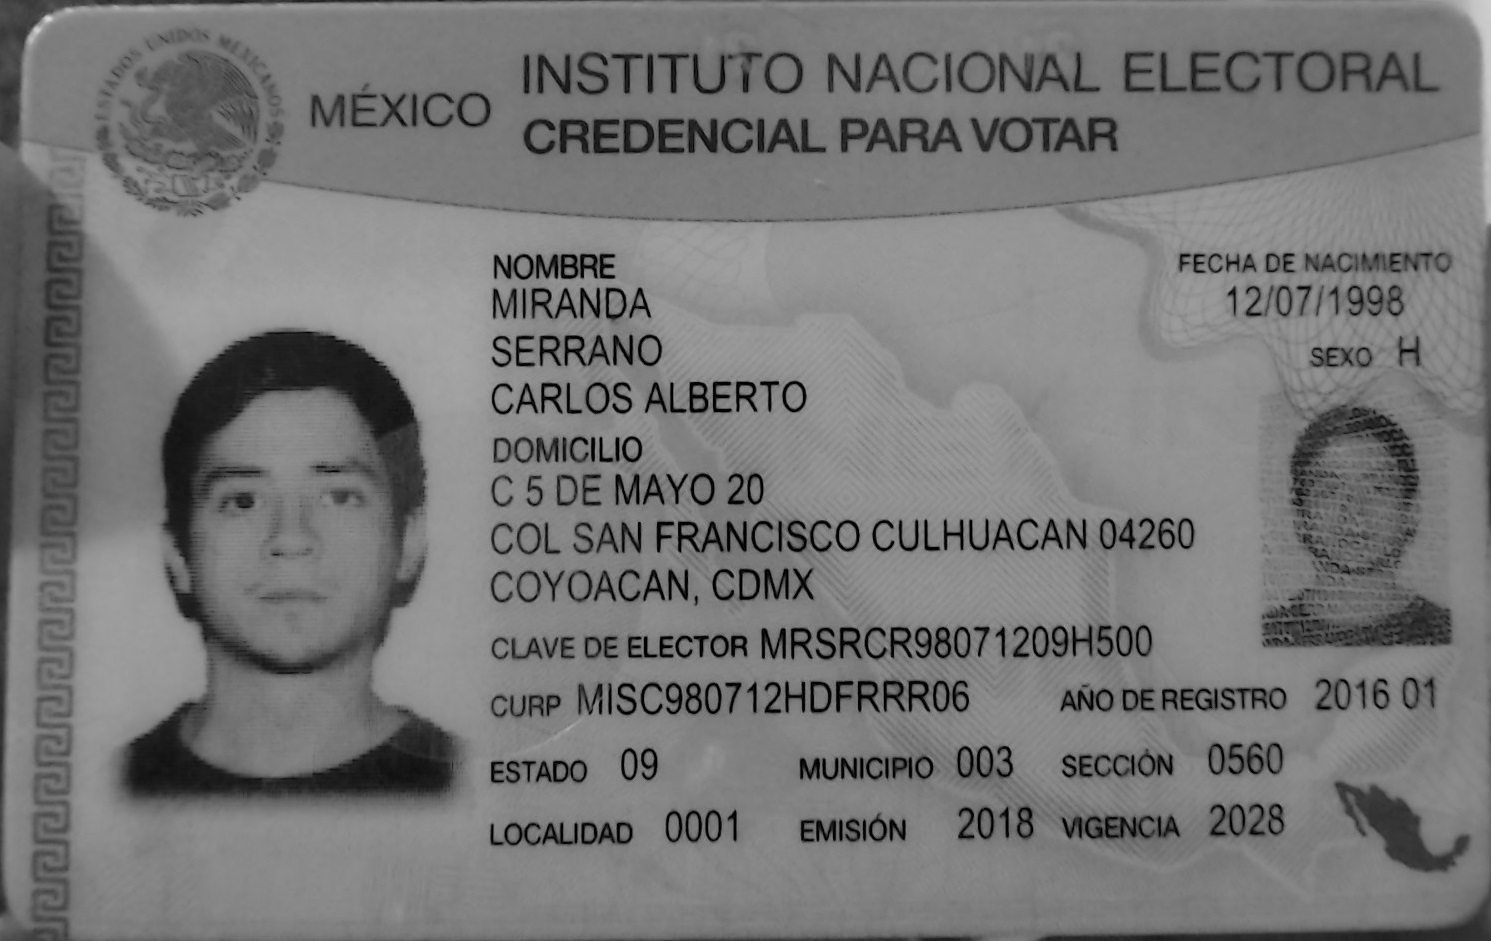ESCUDO: (97, 28, 289, 218)
MAPA: (1333, 778, 1471, 873)
PALABRA: (1125, 50, 1441, 92)
